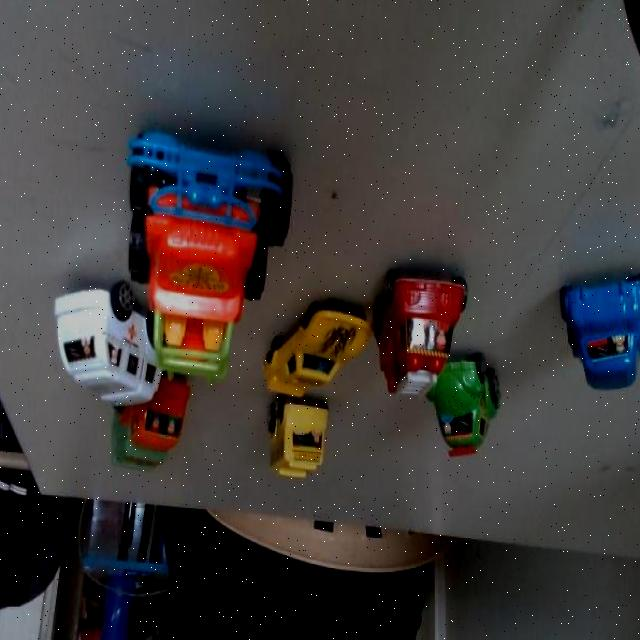car: (125, 109, 298, 324), (242, 274, 388, 415), (543, 234, 640, 409), (378, 255, 472, 398), (47, 281, 158, 399), (103, 366, 202, 484), (426, 346, 508, 456), (271, 393, 338, 490)
